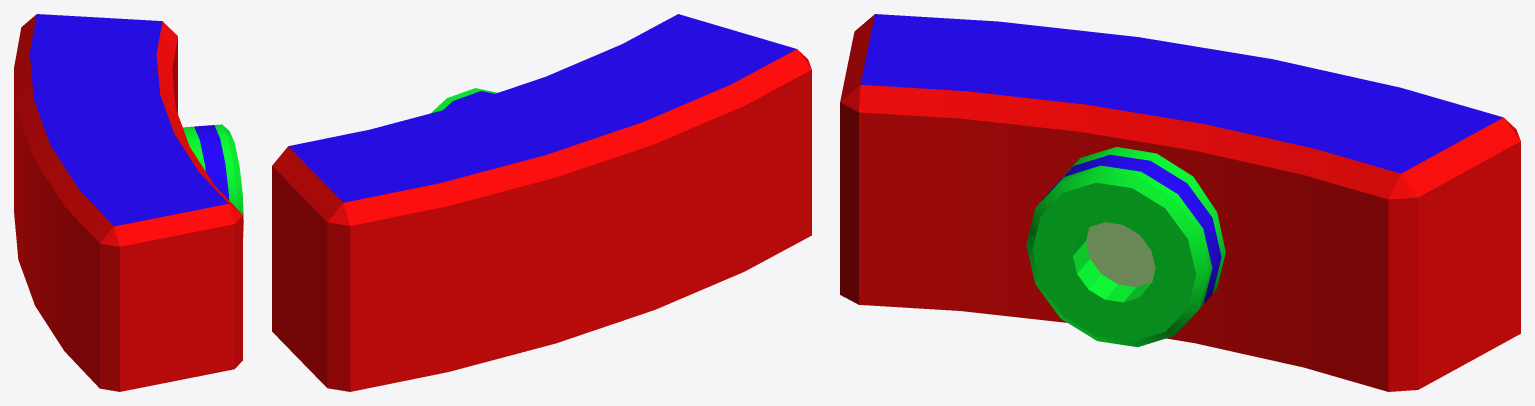
Rendered from SM_Receiver.fbx.
3 views of the same model, side by side, from view 1: azimuth 30°, elevation 25°; view 2: azimuth 150°, elevation 25°; view 3: azimuth 270°, elevation 25° (orthographic). The views are drawn at different scales.
Visible parts, largest first — view 1: Cylinder001; view 2: Cylinder001; view 3: Cylinder001.
Part boxes in pixels (<box>): Cylinder001: <box>14,14,243,391</box>; Cylinder001: <box>272,14,811,391</box>; Cylinder001: <box>840,14,1520,391</box>.
Size of the model in its own units: 53.42 by 30 by 87.61.
